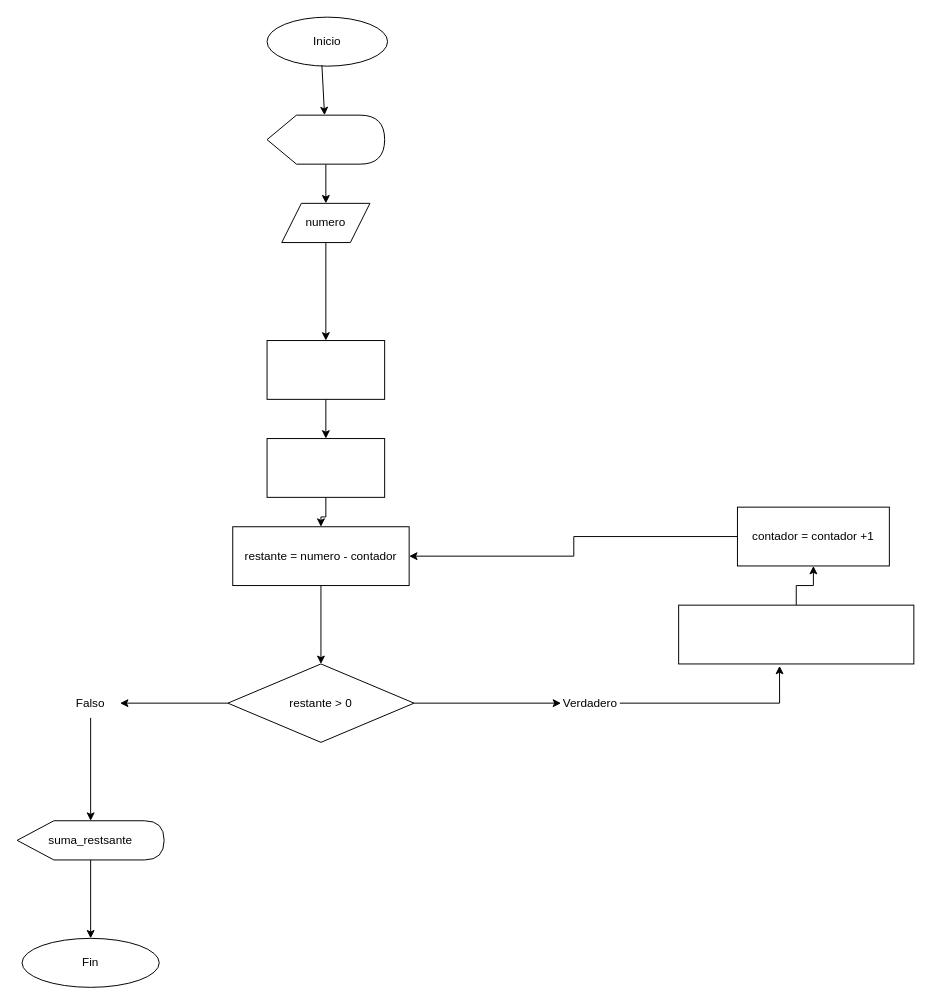
The diagram is 931 pixels wide and 1005 high, and some of its shapes have lost their labels. The shapes that lost their labels are listed below. From the top down, each one's centre as x and y in pixels, then its label:
At (x=325, y=139): "ingrese numero".
At (x=325, y=369): "Contador = 0".
At (x=325, y=467): "suma_restante= 0".
At (x=796, y=634): "suma_restante = suma_restante + restante".
